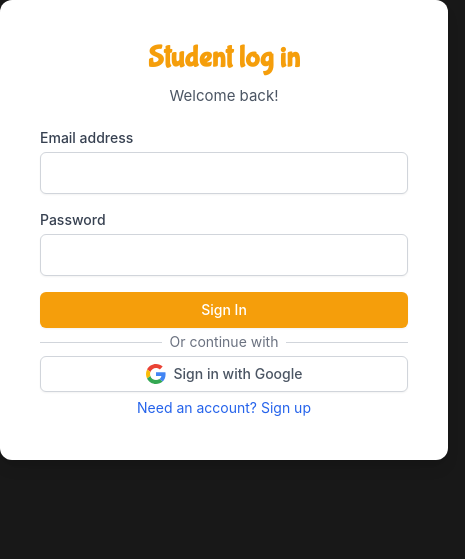
Test case: AuthForm › toggles between login and signup forms
Expected: the heading with test id "form-title" reads "Student log in", [148, 40, 300, 75]
Toggle to signup
Step 1. Click the button with test id "toggle-form" → (224, 408), box [137, 398, 311, 418]
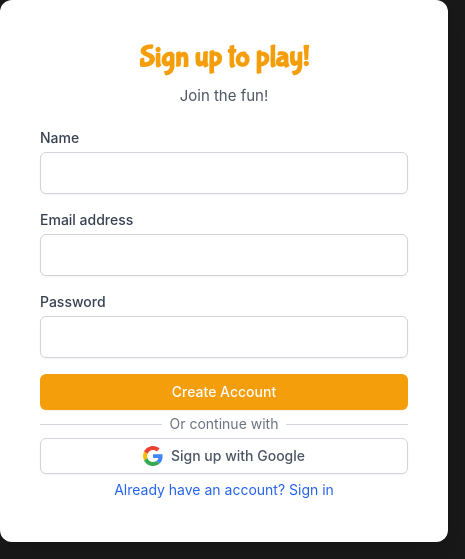
Expected: the field with id "name" is shown, [40, 152, 408, 194]
Expected: the heading with test id "form-title" reads "Sign up to play!", [139, 40, 309, 75]
